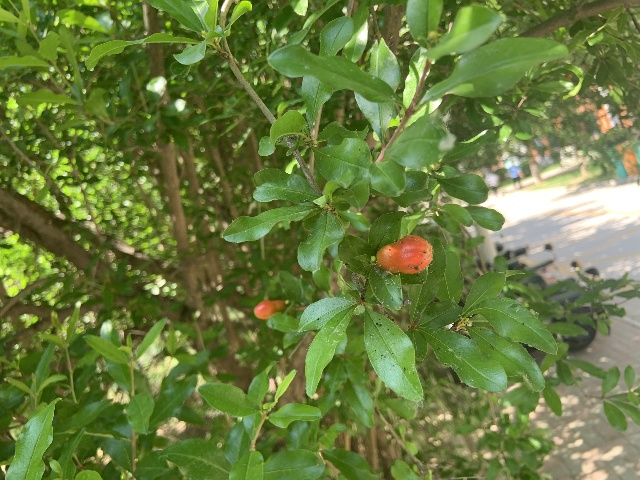bud: (376, 235, 432, 274), (253, 300, 286, 319)
